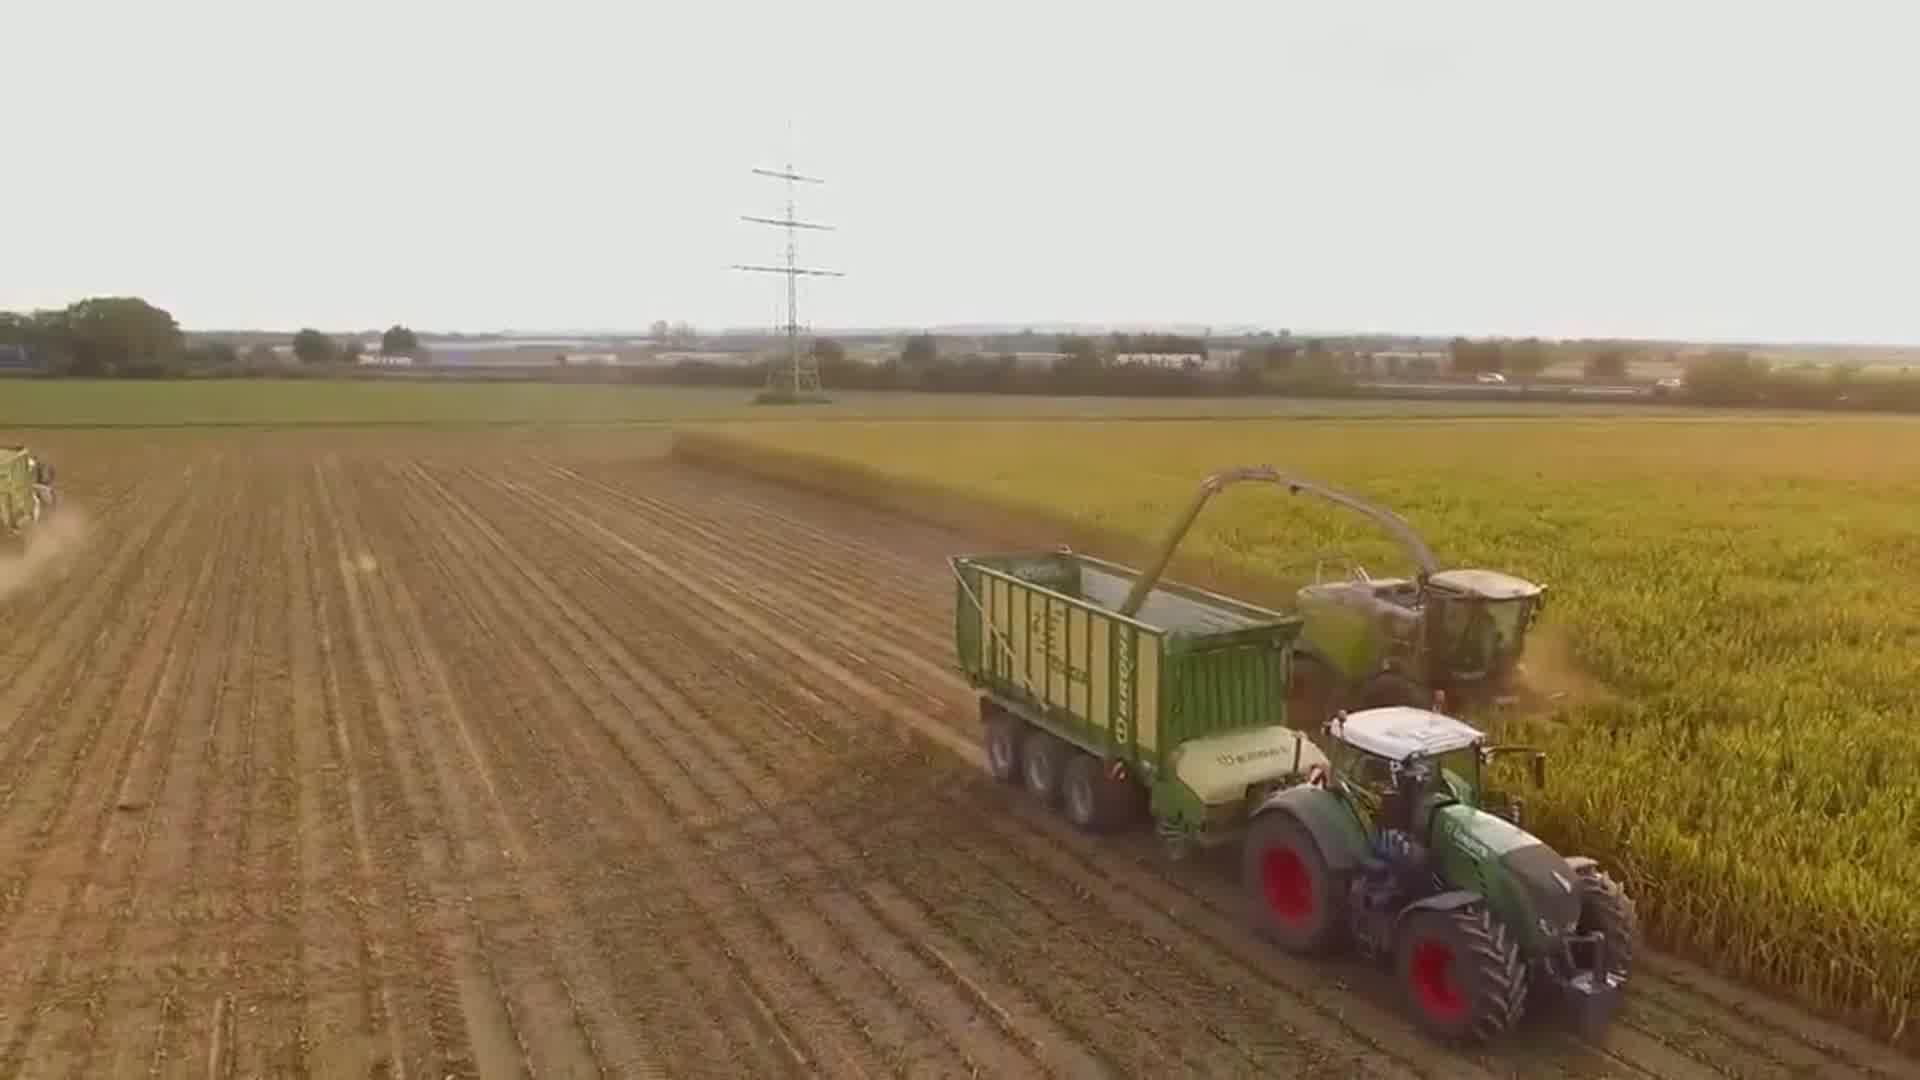trailer: (935, 521, 1332, 851), (0, 442, 44, 570)
